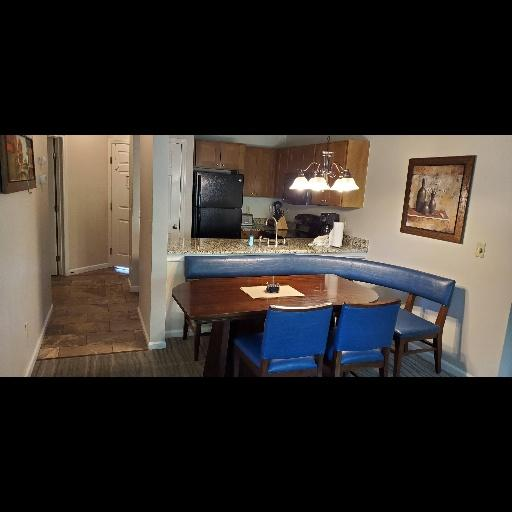chair: (239, 305, 329, 381), (401, 268, 455, 376), (339, 298, 401, 384)
organized table: (155, 275, 387, 324)
